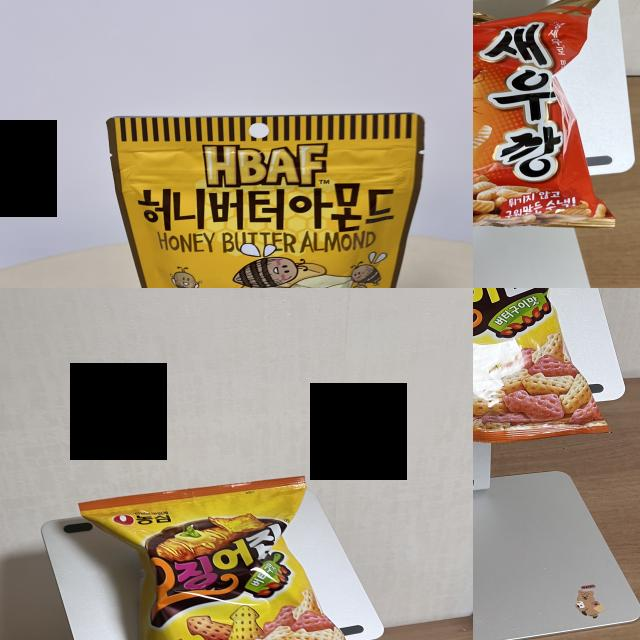honeyAmond: (117, 115, 420, 288)
ozingZip: (144, 491, 285, 640), (473, 288, 553, 437)
shrimpGGang: (473, 18, 557, 222)
